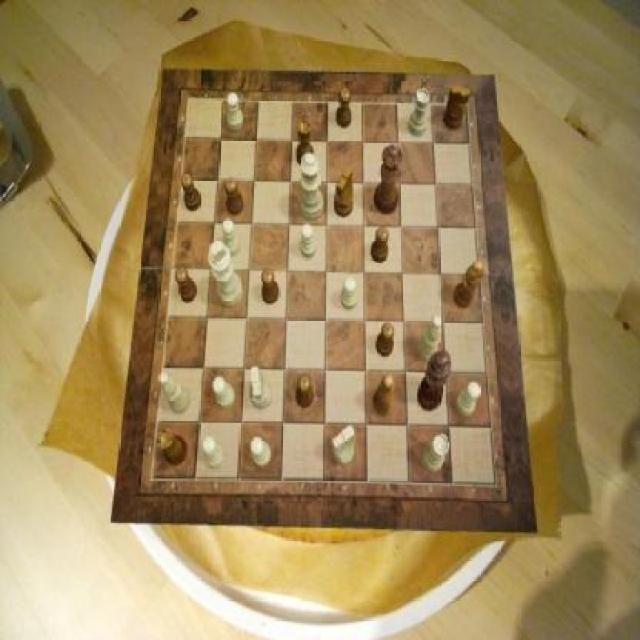bishop: (452, 260, 482, 309), (372, 374, 395, 416)
black-bishop: (418, 351, 452, 411)
black-king: (443, 85, 470, 130), (334, 166, 354, 219)
black-knight: (175, 266, 198, 302), (182, 172, 202, 210), (226, 179, 246, 216), (336, 88, 352, 129), (376, 323, 394, 358), (295, 374, 313, 408), (371, 226, 388, 262), (262, 269, 279, 304)
black-pawn: (374, 144, 401, 216)
black-queen: (157, 428, 189, 465), (295, 120, 313, 169)
black-rook: (160, 371, 192, 413), (417, 317, 441, 365)
white-bishop: (208, 240, 243, 306)
white-king: (249, 368, 272, 410), (332, 426, 356, 466)
white-knight: (457, 382, 481, 416), (203, 437, 226, 471), (212, 377, 235, 409), (228, 92, 245, 131), (222, 219, 239, 256), (251, 437, 271, 468), (340, 277, 358, 311), (300, 223, 317, 258)
white-pawn: (300, 154, 325, 220)
white-queen: (408, 88, 430, 137), (423, 434, 450, 472)
